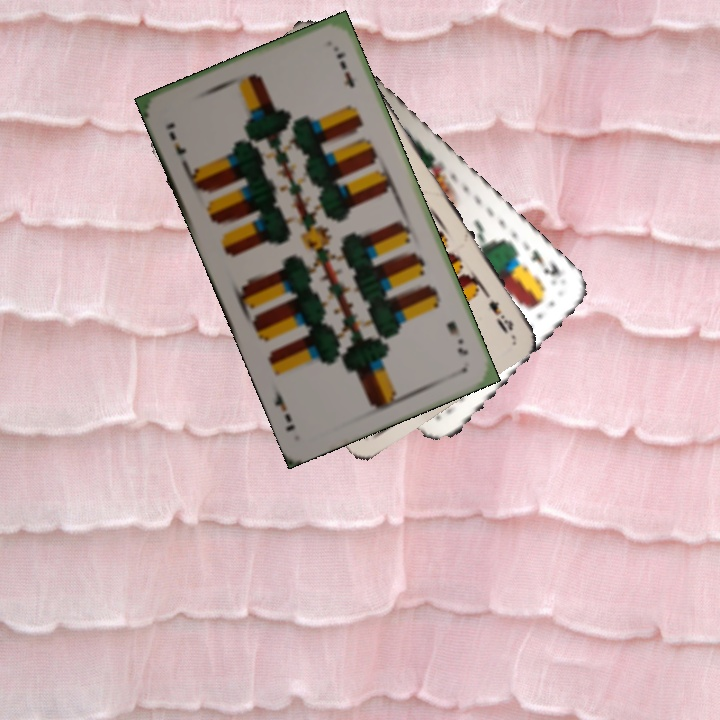E7: (442, 317, 471, 358), (161, 118, 189, 158)
E9: (477, 284, 517, 336)
EK: (526, 245, 562, 280)
